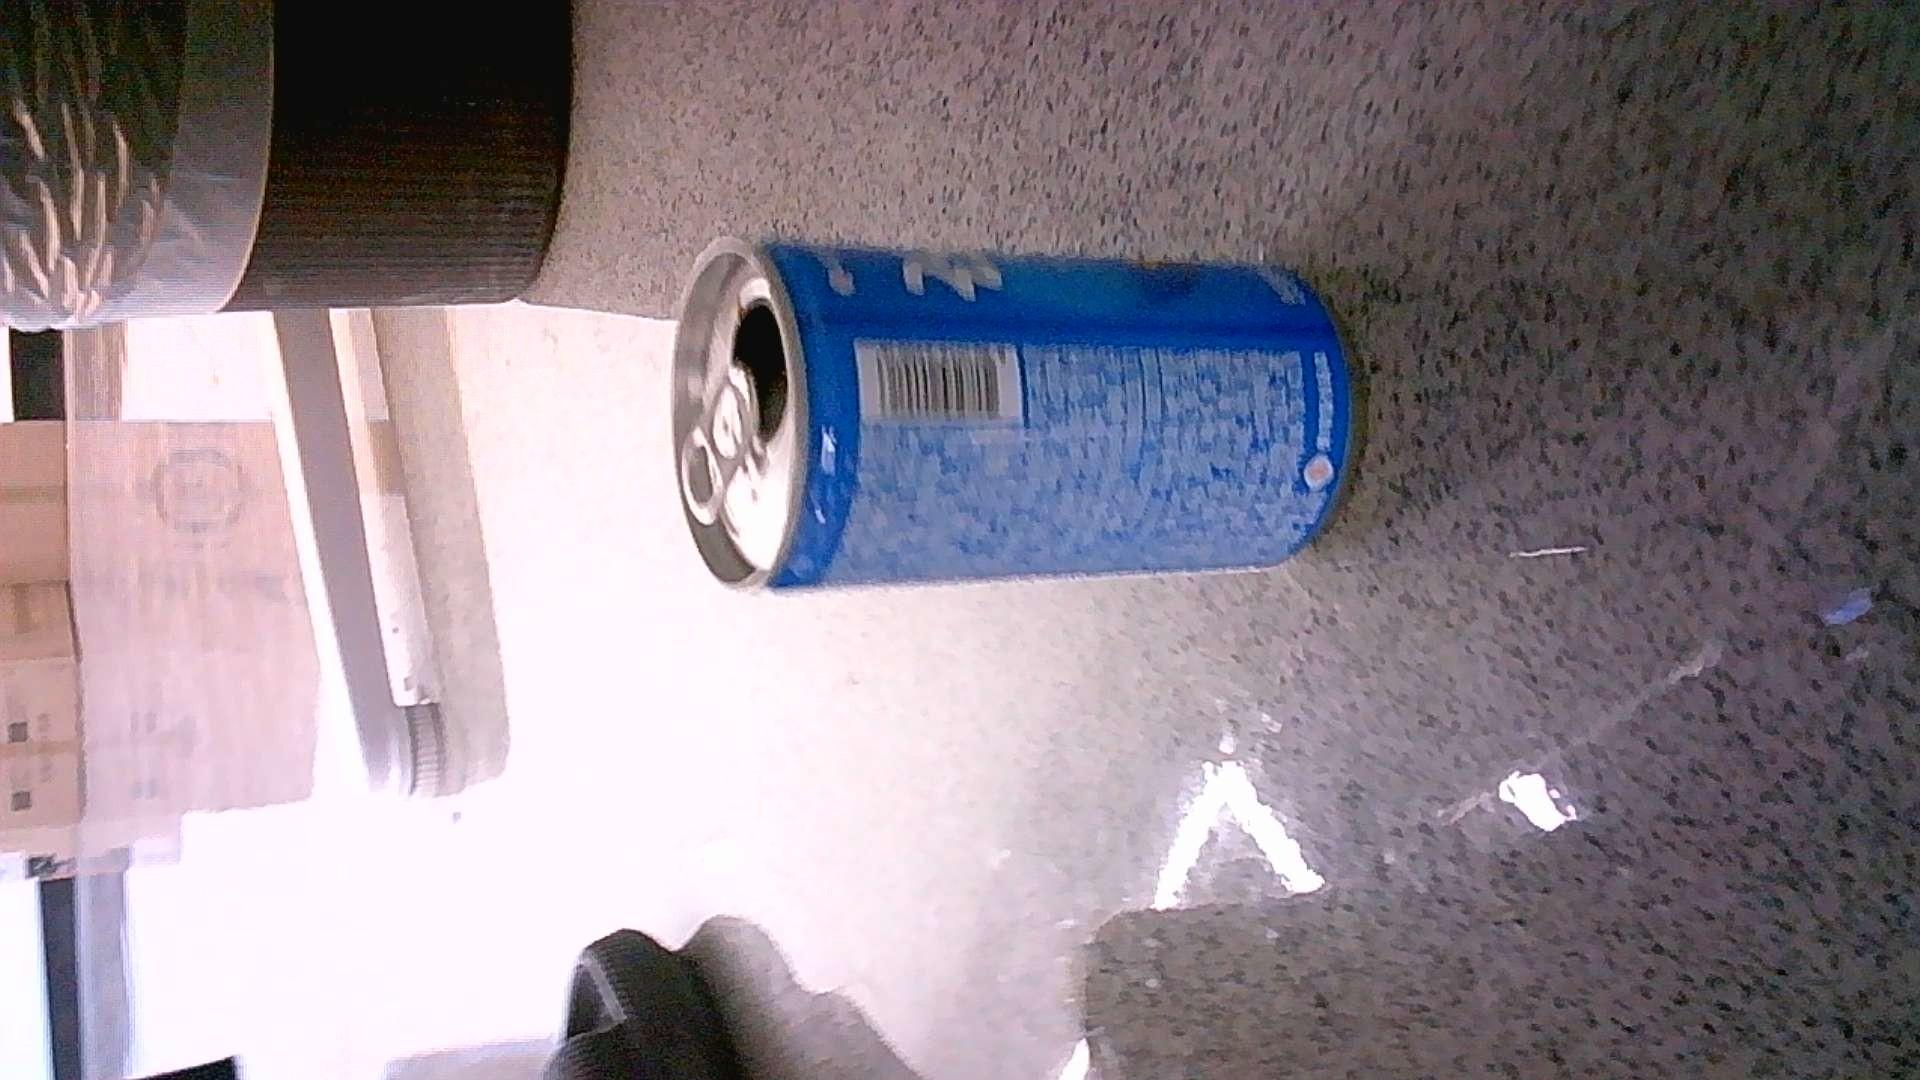letsbe: (667, 235, 1360, 596)
